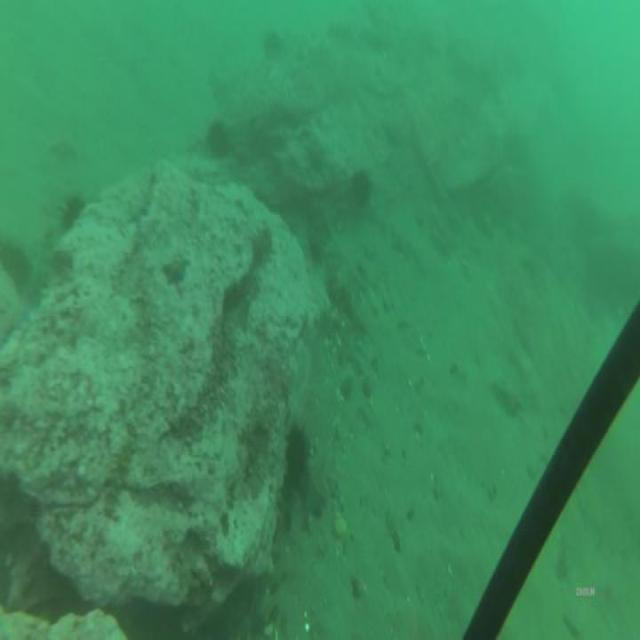echinus: (287, 427, 308, 490), (209, 118, 225, 155), (351, 171, 370, 202), (60, 196, 82, 221), (265, 33, 281, 52)
starfish: (164, 253, 188, 284)
